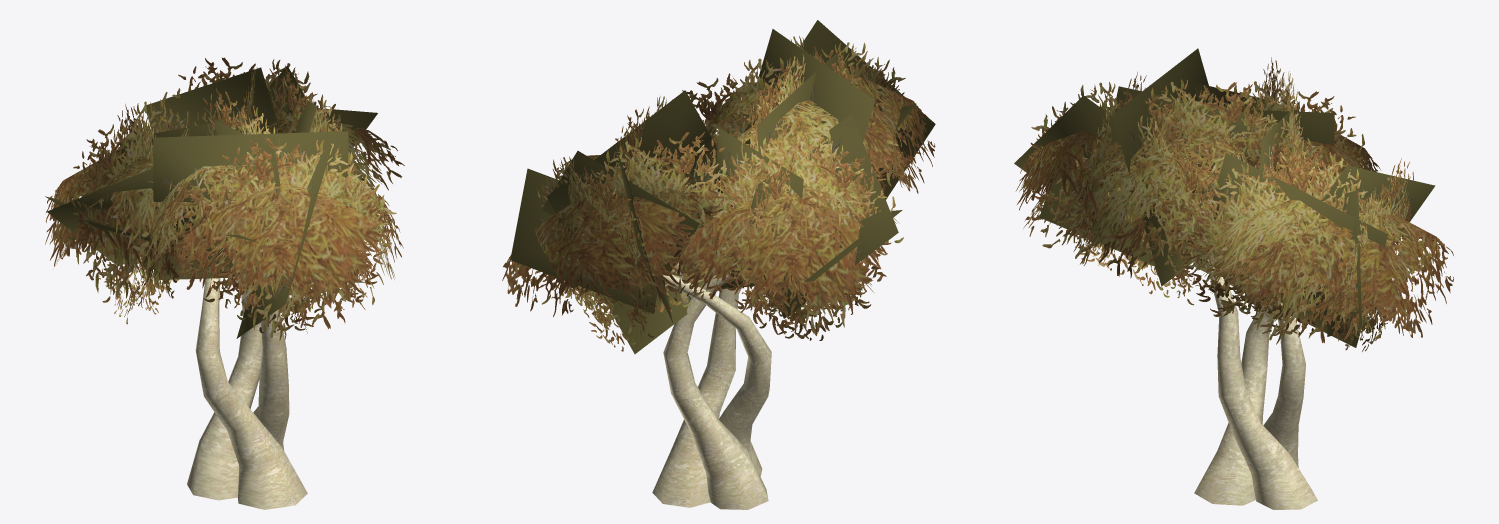
Rendered from decd_windswept_a3_l0.fbx.
3 renders of one model, left to right at view 1: azimuth 30°, elevation 25°; view 2: azimuth 150°, elevation 25°; view 3: azimuth 270°, elevation 25°, orthographic. The views are drawn at different scales.
Parts seen in each view (by area): view 1: mesh_node; view 2: mesh_node; view 3: mesh_node.
Boxes of the visible parts, box(x1,y1,x2,y2) form: mesh_node: box(45, 57, 404, 509); mesh_node: box(502, 20, 935, 509); mesh_node: box(1014, 48, 1453, 509).
Size of the model in its own units: 6.18 by 6.45 by 6.8.
